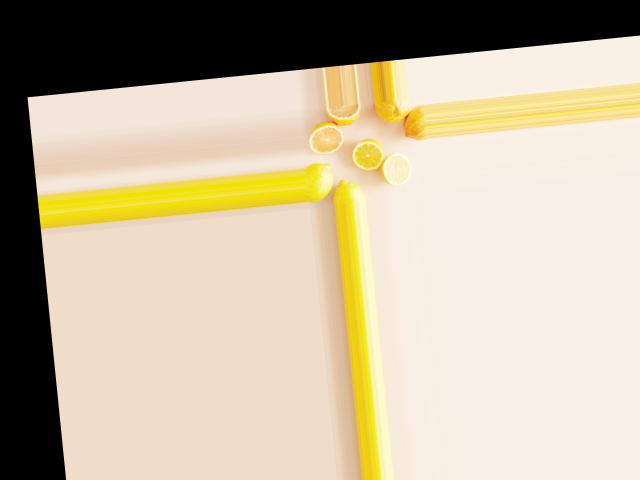lemon: (396, 102, 427, 144)
